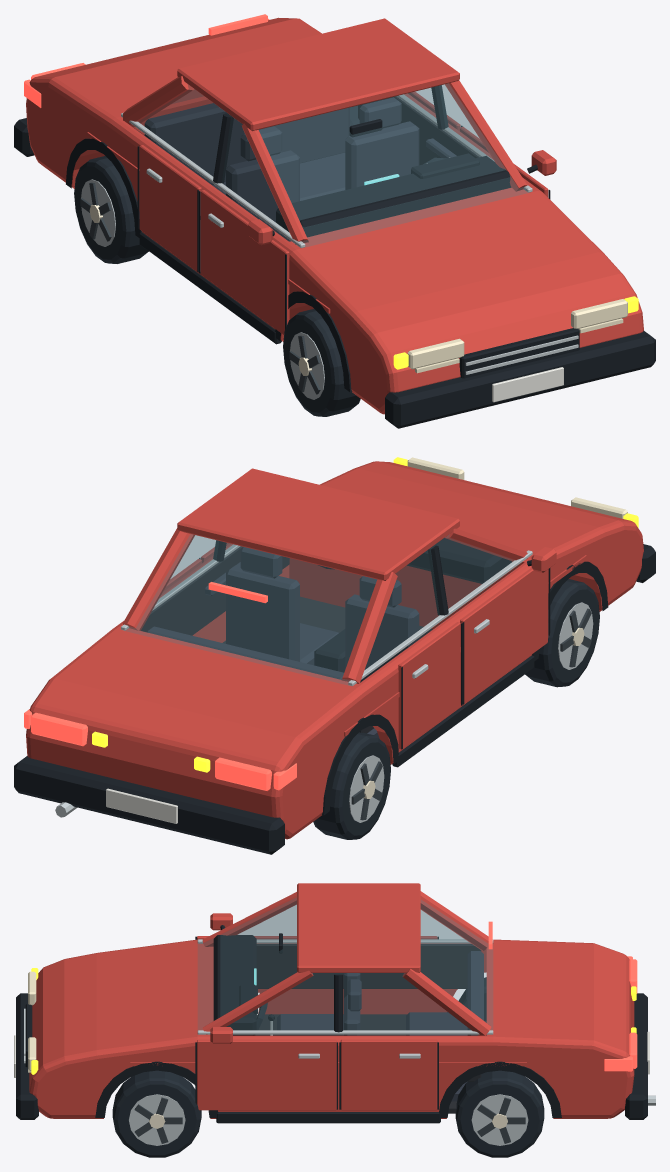
Rendered from Car_Sedan.fbx.
3 views of the same model, one above another, from view 1: azimuth 30°, elevation 25°; view 2: azimuth 150°, elevation 25°; view 3: azimuth 270°, elevation 25° (orthographic). The views are drawn at different scales.
Visible parts, largest first — view 1: Body, WindowCabin, Roof, FrontBumper, Dashboard, DoorPanel_FR, RearSeatBack, DoorPanel_RR, SeatBack, Tire_FR, Tire_RR, SeatBack.001 (+20 smaller); view 2: Body, WindowCabin, Roof, RearBumper, DoorPanel_FR, SeatBack, DoorPanel_RR, Tire_RR, DoorTrim, Tire_FR, SeatBack.001, Dashboard (+22 smaller); view 3: Body, WindowCabin, Roof, DoorPanel_FL, DoorPanel_RL, DoorTrim.001, Tire_RL, Tire_FL, Dashboard, SideSkirt_L, RearBumper, ArchTrim_LR (+18 smaller).
Boxes of the visible parts, left/top/right/bottom form: Body: left=26, top=17, right=643, bottom=414; WindowCabin: left=139, top=83, right=527, bottom=246; Roof: left=177, top=18, right=459, bottom=131; FrontBumper: left=385, top=331, right=655, bottom=428; Dashboard: left=276, top=155, right=511, bottom=237; DoorPanel_FR: left=201, top=190, right=289, bottom=334; RearSeatBack: left=144, top=103, right=349, bottom=184; DoorPanel_RR: left=139, top=145, right=201, bottom=272; SeatBack: left=345, top=121, right=419, bottom=189; Tire_FR: left=283, top=309, right=360, bottom=416; Tire_RR: left=74, top=156, right=148, bottom=263; SeatBack.001: left=226, top=150, right=299, bottom=240; Body: left=26, top=461, right=643, bottom=839; WindowCabin: left=125, top=534, right=513, bottom=685; Roof: left=177, top=468, right=459, bottom=580; RearBumper: left=14, top=756, right=284, bottom=854; DoorPanel_FR: left=460, top=567, right=548, bottom=703; SeatBack: left=226, top=565, right=299, bottom=661; DoorPanel_RR: left=398, top=622, right=460, bottom=749; Tire_RR: left=313, top=732, right=390, bottom=839; DoorTrim: left=141, top=546, right=289, bottom=635; Tire_FR: left=525, top=579, right=599, bottom=687; SeatBack.001: left=345, top=594, right=419, bottom=682; Dashboard: left=407, top=537, right=511, bottom=583; Body: left=29, top=939, right=634, bottom=1118; WindowCabin: left=198, top=897, right=492, bottom=1029; Roof: left=297, top=883, right=420, bottom=972; DoorPanel_FL: left=197, top=1039, right=336, bottom=1110; DoorPanel_RL: left=340, top=1039, right=437, bottom=1110; DoorTrim.001: left=256, top=944, right=481, bottom=988; Tire_RL: left=455, top=1070, right=544, bottom=1157; Tire_FL: left=112, top=1070, right=201, bottom=1157; Dashboard: left=213, top=935, right=256, bottom=1035; SideSkirt_L: left=216, top=1112, right=440, bottom=1123; RearBumper: left=625, top=993, right=647, bottom=1119; ArchTrim_LR: left=439, top=1061, right=561, bottom=1117.
Bounding box in the file's own units: 2.1 × 1.49 × 4.77.
